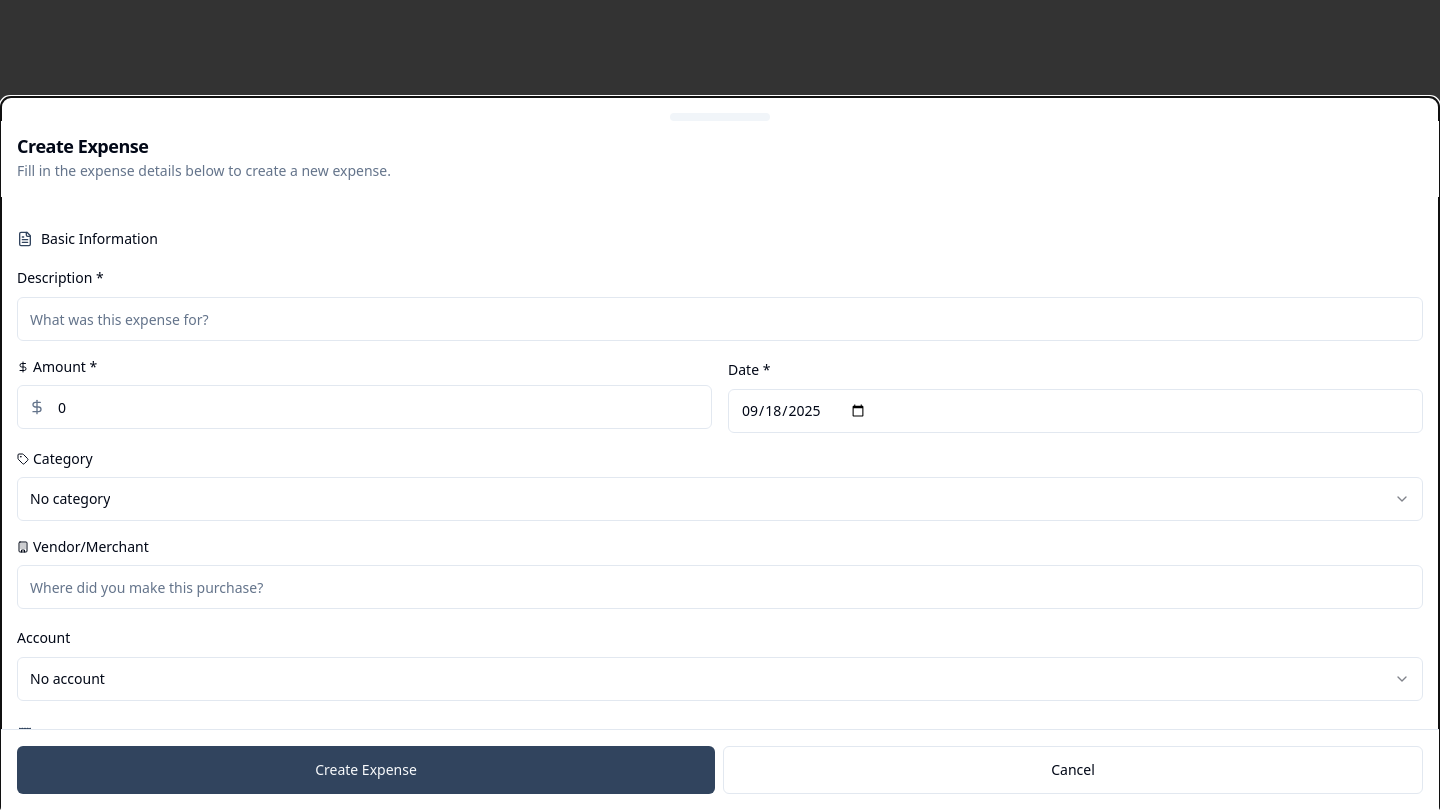
it: ExpenseFormDrawer › validates required fields
Click the button "Create Expense": (366, 769) [17,745,715,793]
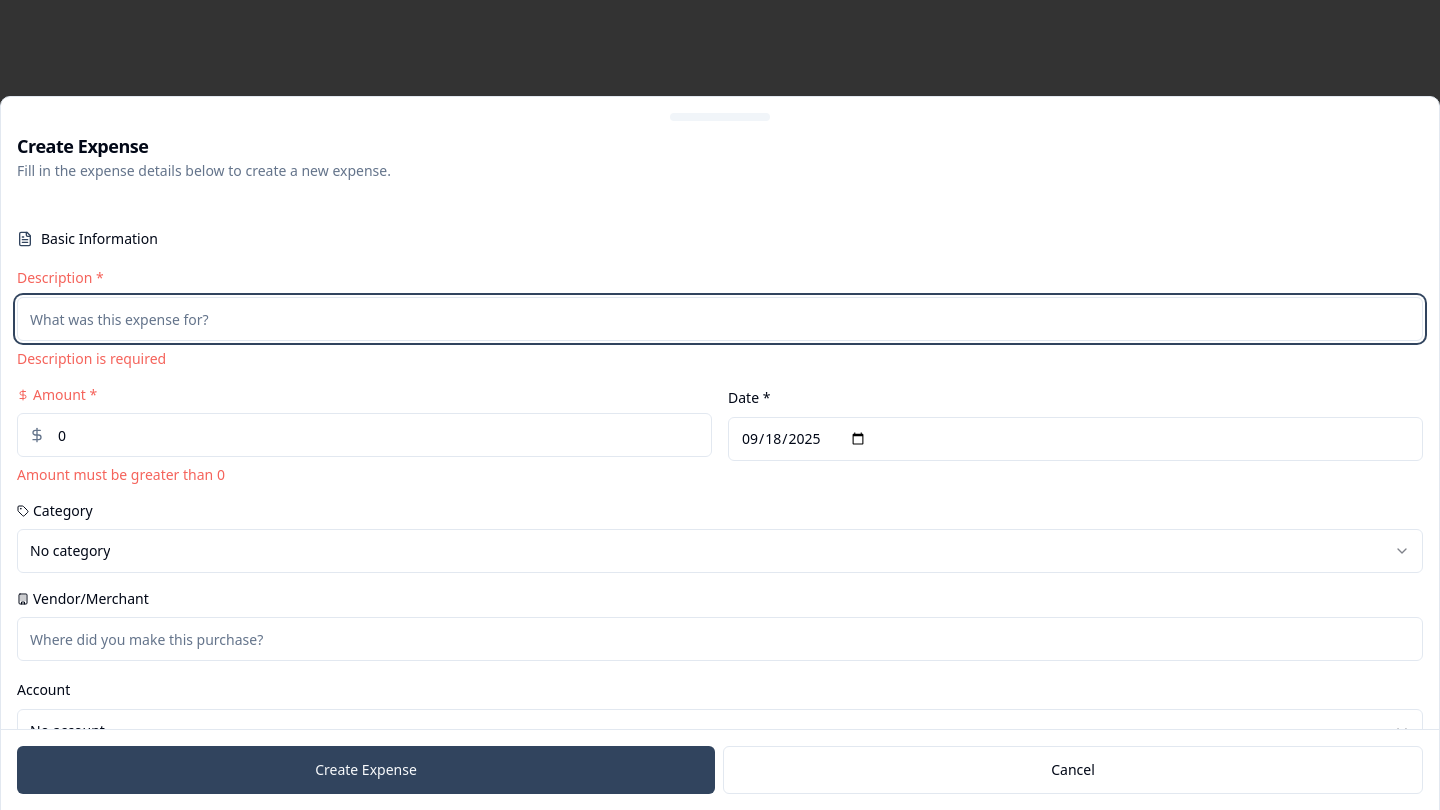
Result: the text "Description is required" is shown at [17,348,166,368]
